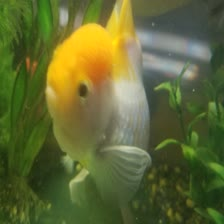Cuezo: (36, 2, 164, 206)
